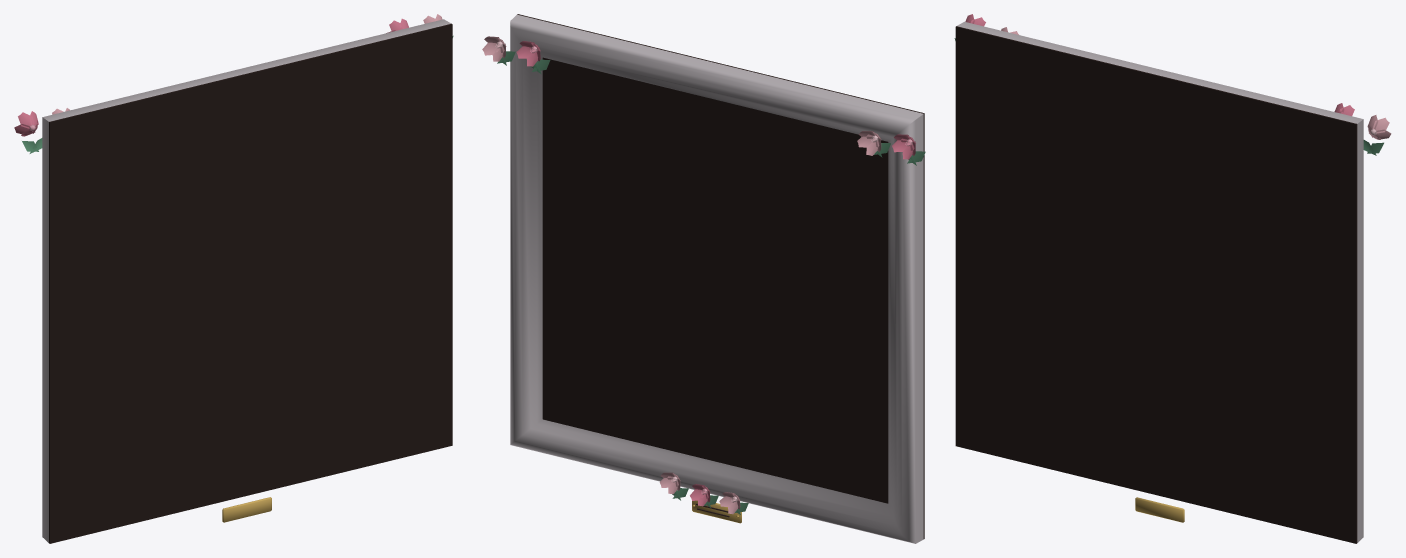
The model's file is pearl_roses_square.glb.
3 renders of one model, left to right at view 1: azimuth 30°, elevation 25°; view 2: azimuth 150°, elevation 25°; view 3: azimuth 330°, elevation 25°, orthographic.
Visible parts, largest first — view 1: pearl_roses_square; view 2: pearl_roses_square; view 3: pearl_roses_square.
Boxes of the visible parts, box(x1,y1,x2,y2) form: pearl_roses_square: box(14, 14, 453, 543); pearl_roses_square: box(482, 14, 925, 543); pearl_roses_square: box(954, 14, 1391, 543).
Size of what is drawn, in the model's own units: 1.23 by 1.22 by 0.1094.
